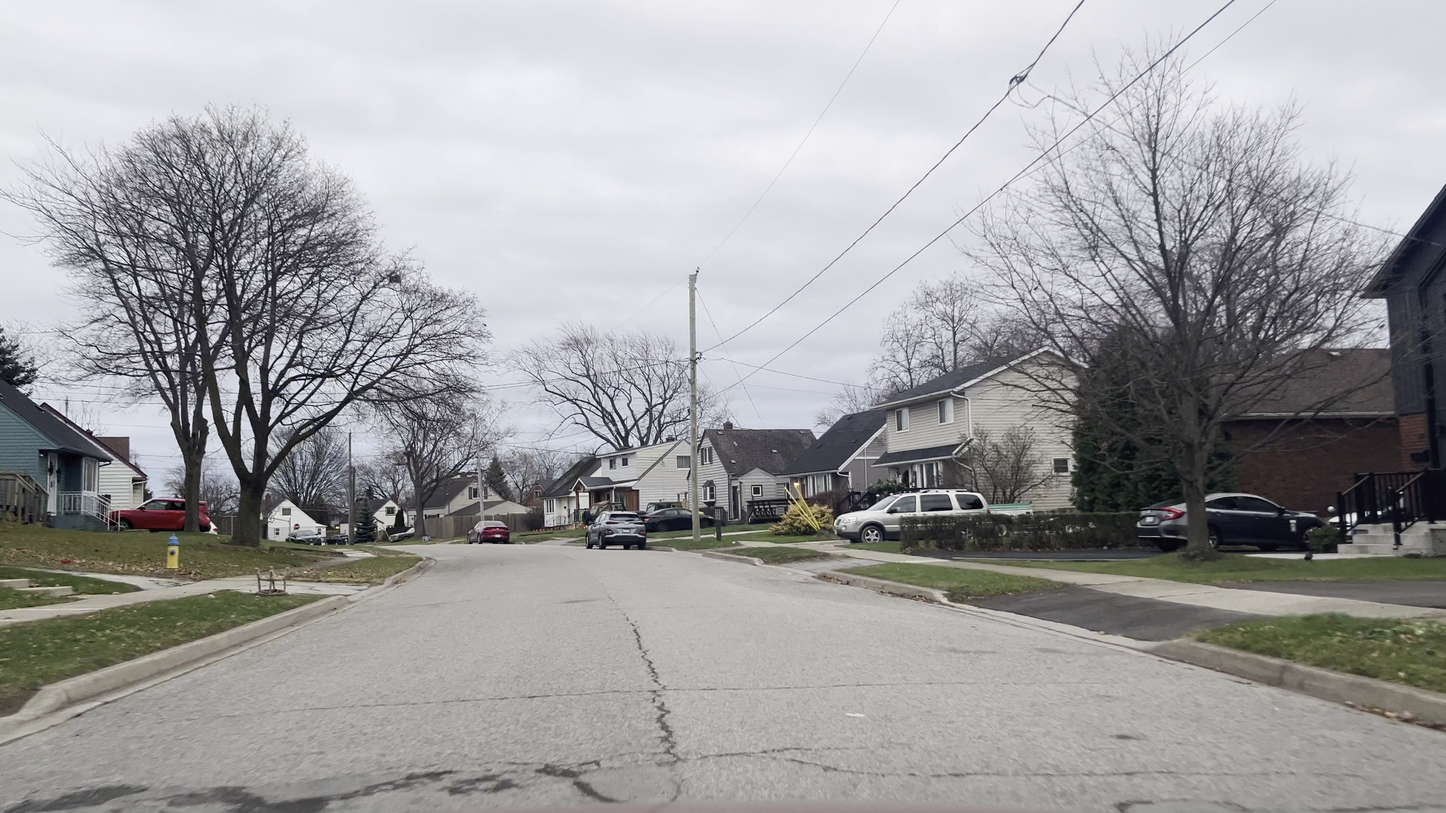cracks: (172, 767, 451, 813), (459, 759, 620, 813), (20, 769, 157, 813)
